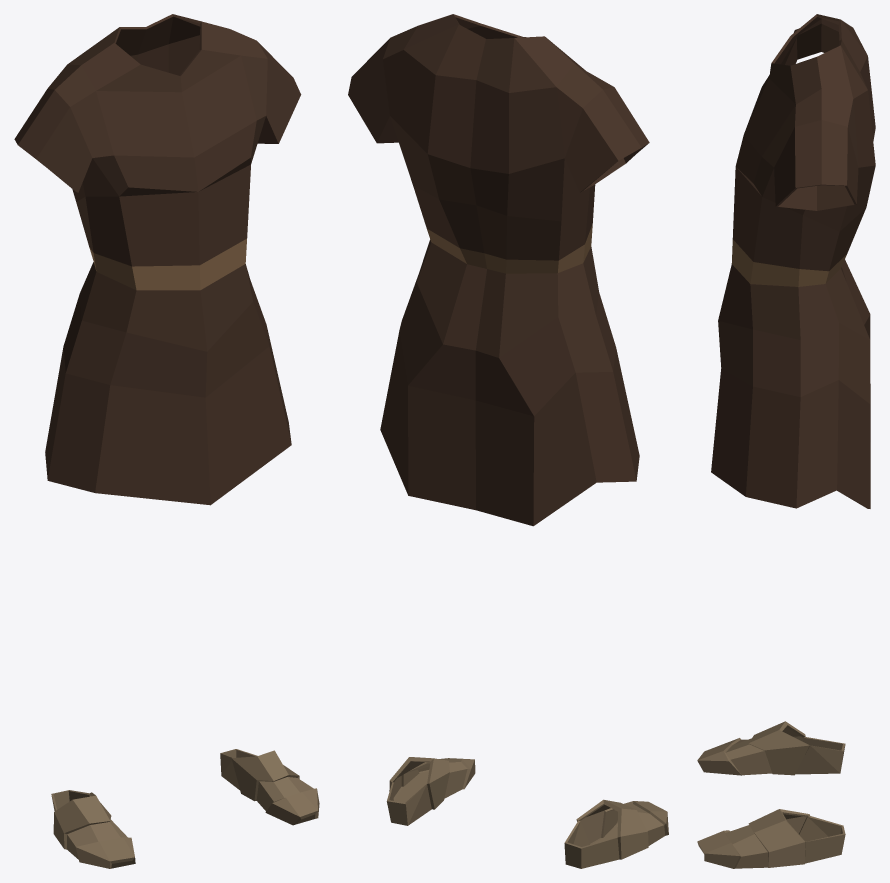
The model's file is M Citizen Fisherman.fbx.
3 views of the same model, side by side, from view 1: azimuth 30°, elevation 25°; view 2: azimuth 150°, elevation 25°; view 3: azimuth 270°, elevation 25° (orthographic). The views are drawn at different scales.
Visible parts, largest first — view 1: M Citizen Fisherman; view 2: M Citizen Fisherman; view 3: M Citizen Fisherman.
Part boxes in pixels (x1,y1,x2,y2): M Citizen Fisherman: (14,14,319,868); M Citizen Fisherman: (348,14,668,868); M Citizen Fisherman: (697,14,875,868).
Size of the model in its own units: 113 by 303 by 62.86.
